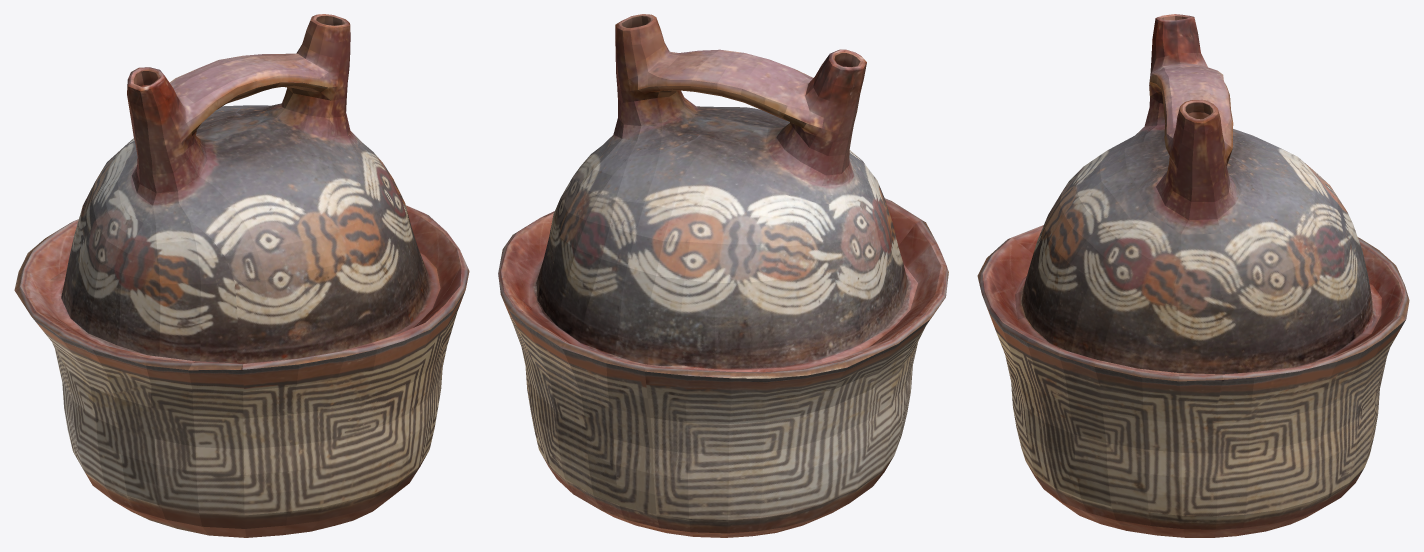
Rendered from objeto_06_nasca.glb.
The picture shows the model from 3 angles, left to right: view 1: azimuth 30°, elevation 25°; view 2: azimuth 150°, elevation 25°; view 3: azimuth 270°, elevation 25°; orthographic projection. The views are drawn at different scales.
Visible parts, largest first — view 1: Box001; view 2: Box001; view 3: Box001.
Part boxes in pixels (<box>): Box001: <box>14,14,469,537</box>; Box001: <box>498,14,948,537</box>; Box001: <box>977,14,1409,537</box>.
Size of the model in its own units: 1.01 by 1.11 by 1.01.
Materials: 1 (1 with a texture image).
